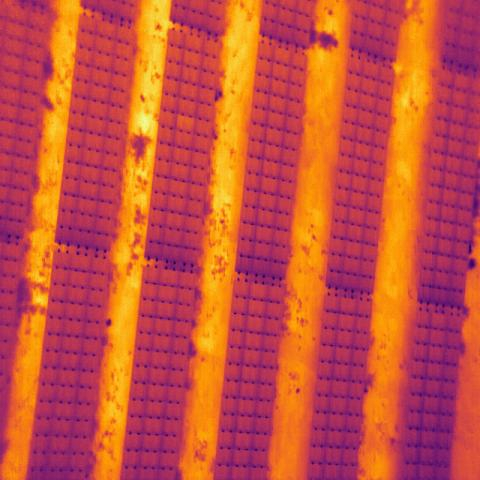fault: (176, 113, 196, 135)
